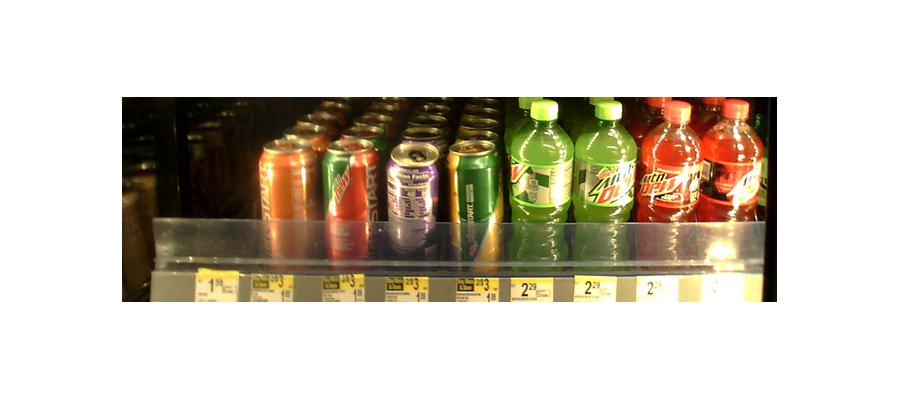bottle: (508, 99, 572, 268), (700, 95, 761, 267), (572, 99, 634, 265), (636, 99, 697, 263), (258, 132, 321, 260), (446, 138, 502, 267), (384, 139, 442, 260), (323, 139, 378, 260), (192, 110, 237, 232)
